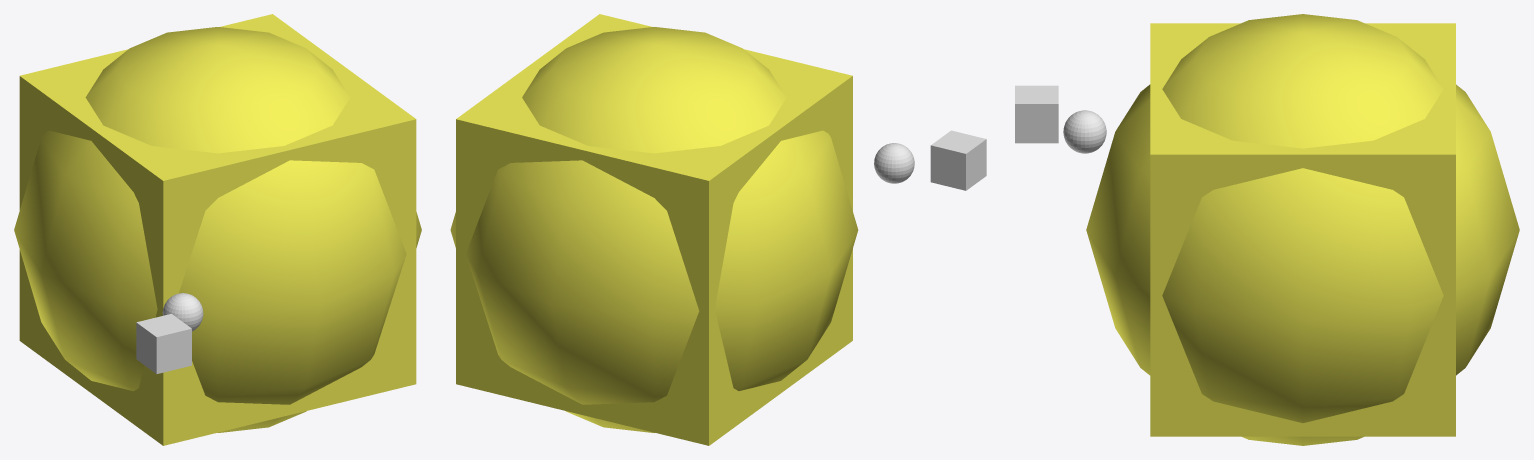
File: textaure.glb
The picture shows the model from 3 angles, left to right: view 1: azimuth 30°, elevation 25°; view 2: azimuth 150°, elevation 25°; view 3: azimuth 270°, elevation 25°; orthographic projection. The views are drawn at different scales.
Visible parts, largest first — view 1: Layer_0, Cube, 球体; view 2: Layer_0, Cube, 球体; view 3: Layer_0, Cube, 球体.
Part boxes in pixels (x1,y1,x2,y2): Layer_0: [14, 14, 421, 445]; Cube: [136, 314, 191, 373]; 球体: [162, 293, 203, 331]; Layer_0: [450, 14, 858, 445]; Cube: [930, 130, 986, 190]; 球体: [874, 143, 914, 183]; Layer_0: [1086, 14, 1519, 445]; Cube: [1015, 85, 1058, 143]; 球体: [1063, 110, 1106, 153].
Size of the model in its own units: 21.14 by 20 by 23.28.
